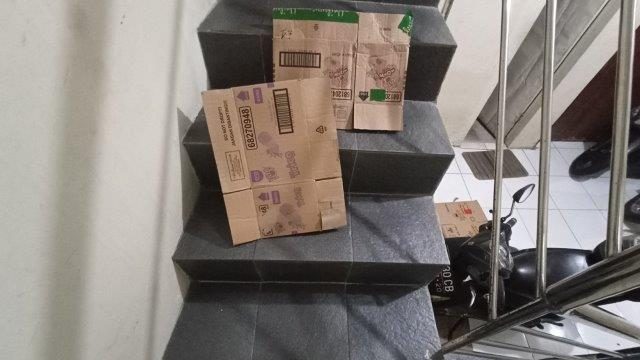kardus: (204, 79, 345, 243), (273, 9, 411, 130), (436, 201, 488, 237)
